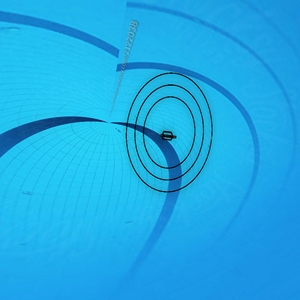circle: (125, 73, 216, 194)
submarine: (162, 131, 178, 140)
